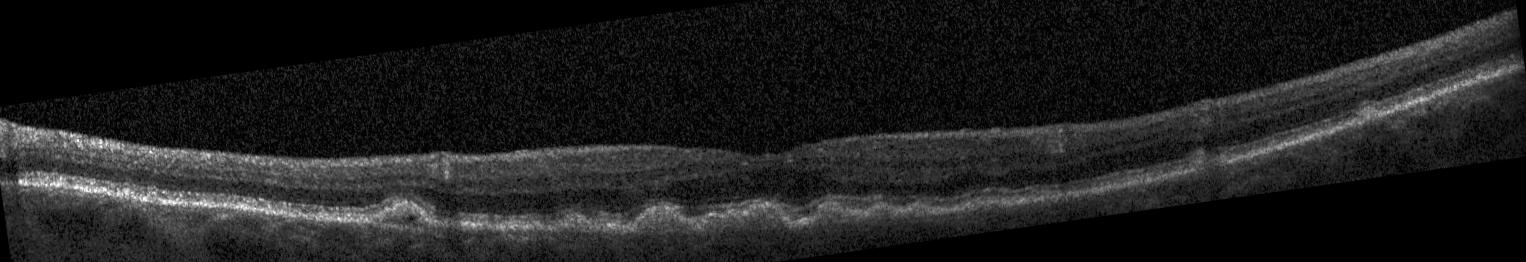retinal_drusen: (704, 206, 782, 236), (633, 207, 693, 234), (378, 203, 423, 229), (810, 201, 849, 223), (862, 204, 895, 224), (1356, 105, 1380, 126), (1197, 157, 1225, 171), (559, 216, 586, 230), (904, 205, 928, 219), (976, 202, 1003, 214), (896, 210, 902, 218), (963, 204, 969, 211)
